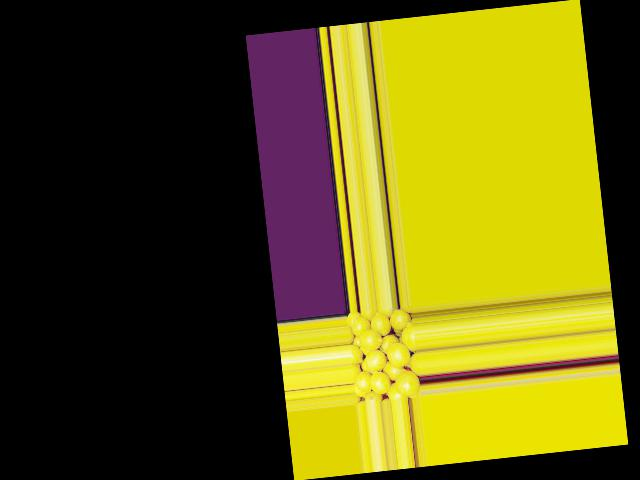lemon: (400, 319, 417, 351)
